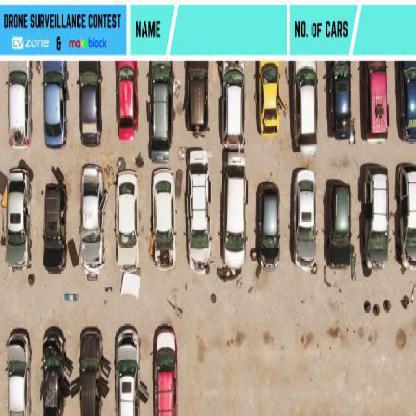car: (2, 161, 33, 277), (222, 154, 248, 277), (78, 166, 108, 270), (327, 177, 355, 274), (361, 172, 386, 279), (115, 324, 144, 416), (188, 168, 214, 267), (292, 64, 320, 155), (291, 173, 317, 269), (148, 64, 172, 166), (116, 172, 140, 274), (44, 178, 68, 274), (154, 326, 180, 414), (361, 65, 390, 143), (78, 324, 102, 415), (153, 173, 177, 263), (42, 325, 66, 415), (44, 60, 68, 148), (78, 62, 103, 146), (6, 68, 32, 148), (259, 183, 283, 269), (328, 63, 354, 141), (184, 61, 212, 133), (7, 329, 31, 412), (115, 61, 139, 139), (223, 66, 245, 142), (259, 64, 281, 138), (400, 170, 415, 268), (399, 65, 415, 147)
